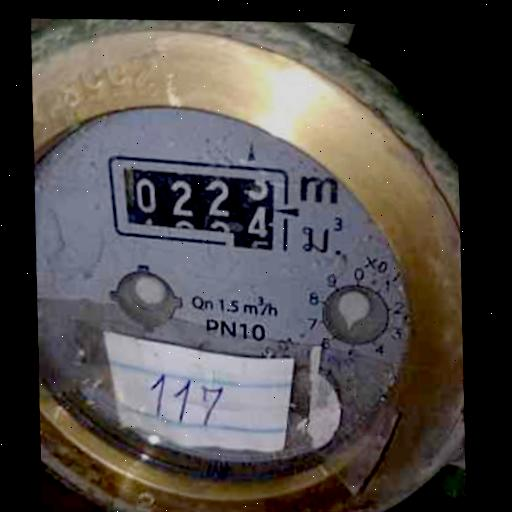0: (121, 167, 165, 228)
2: (160, 169, 206, 231), (198, 174, 238, 235)
4: (229, 176, 277, 253)
border_water_meter_number: (100, 144, 295, 262)
